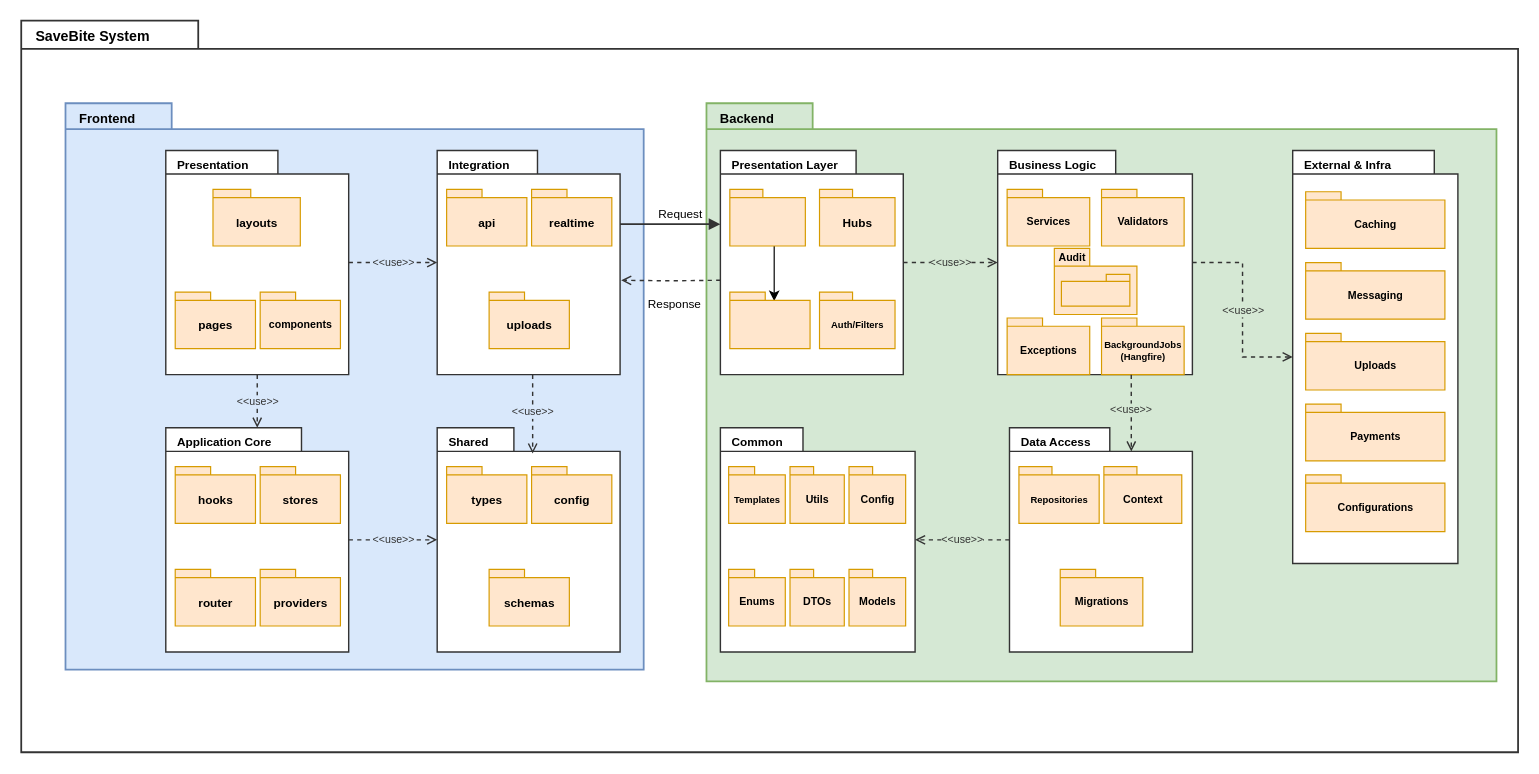
Image size: 1539x774. Some labels were removed from this diagram. The shapes that lost their labels are listed below. From the top down, each one's centre as x and y in pixels, then its label:
the point at 767,217: Program
the point at 1095,289: Archives
the point at 769,320: Controllers
